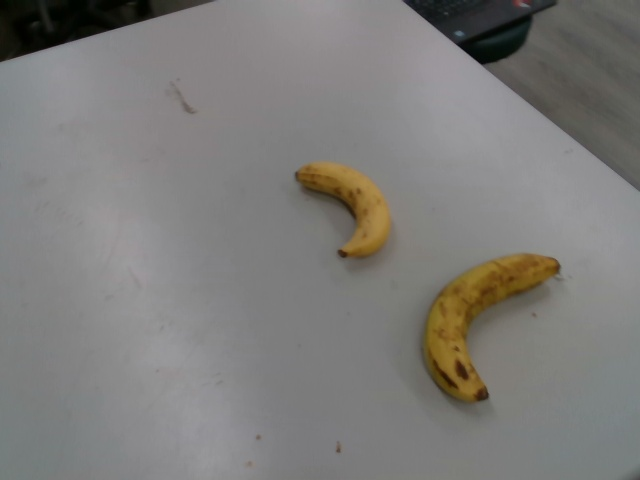banana: (416, 250, 561, 404), (291, 159, 393, 261)
